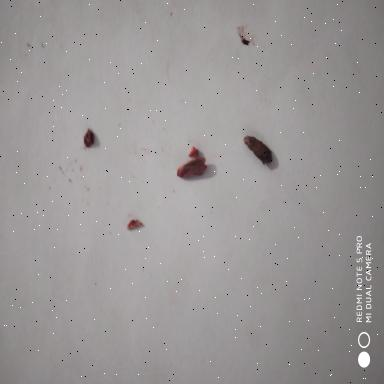pbw: (176, 156, 208, 178)
